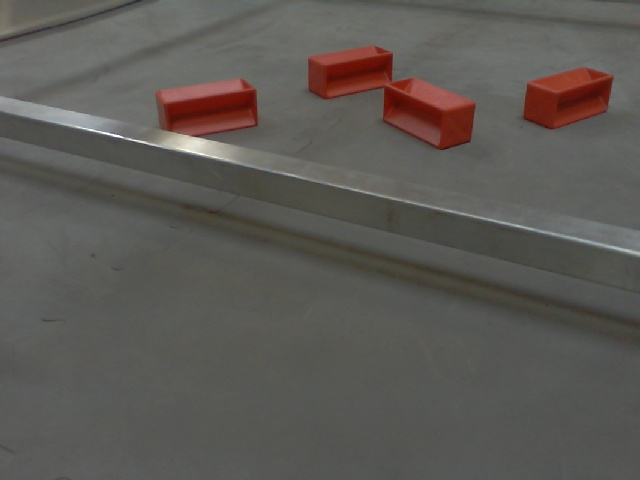RedSample: (383, 75, 478, 150), (152, 75, 261, 137), (517, 65, 615, 130), (306, 41, 395, 95)
